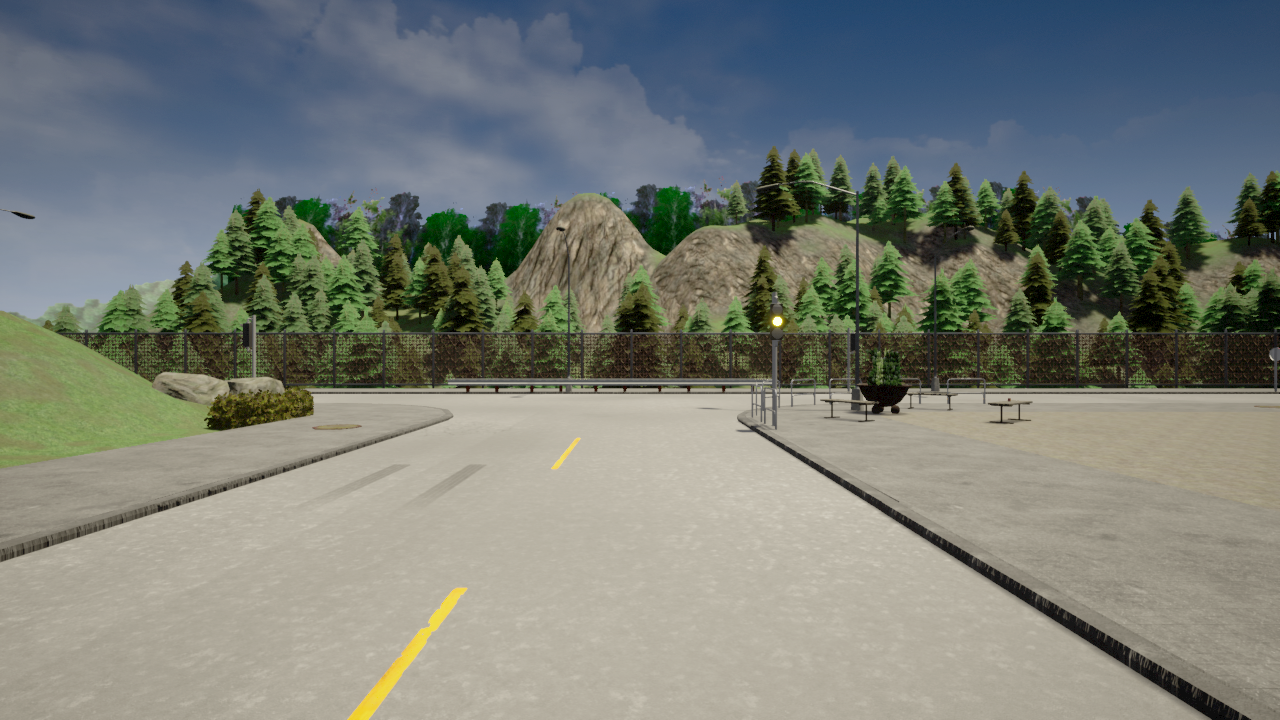yellow: (769, 302, 784, 342)
